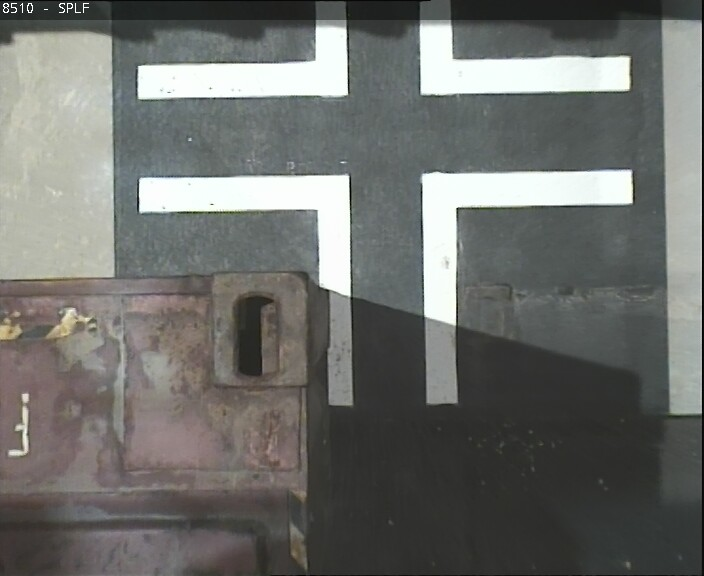groundmarker_1: (133, 169, 631, 402), (135, 1, 631, 101)
